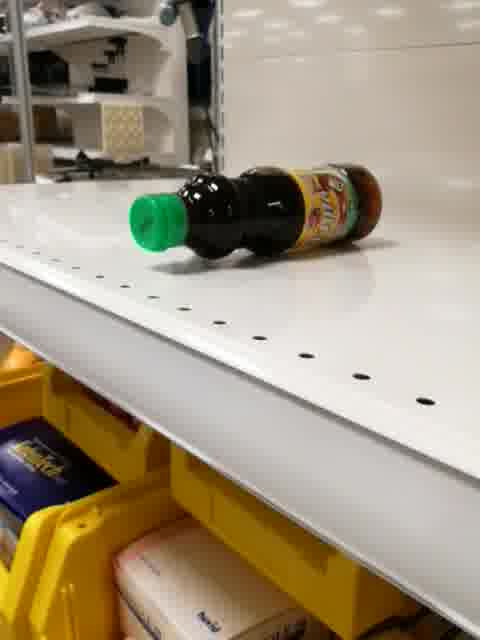cookingoil: (124, 158, 386, 264)
